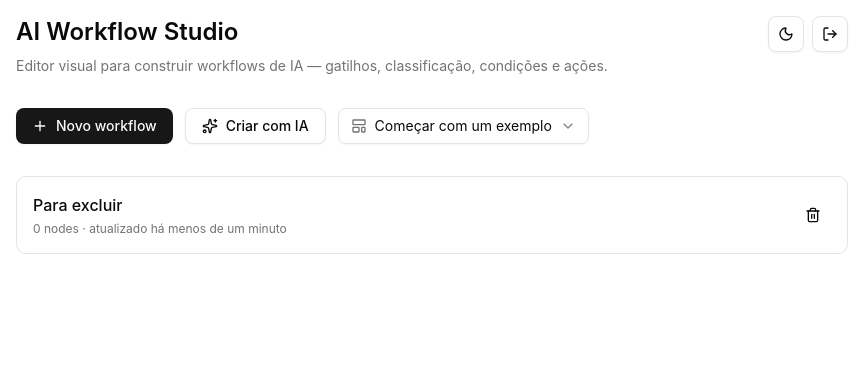
Test case: WorkflowListPage › remove um workflow após confirmação
expect the text "Para excluir" is shown: met, box left=33, top=195, right=122, bottom=215
What coordinates should you click on to do the following:
click the button named "excluir workflow \"para excluir\""
I would click on:
 (813, 215)
Its box is left=795, top=197, right=831, bottom=233.
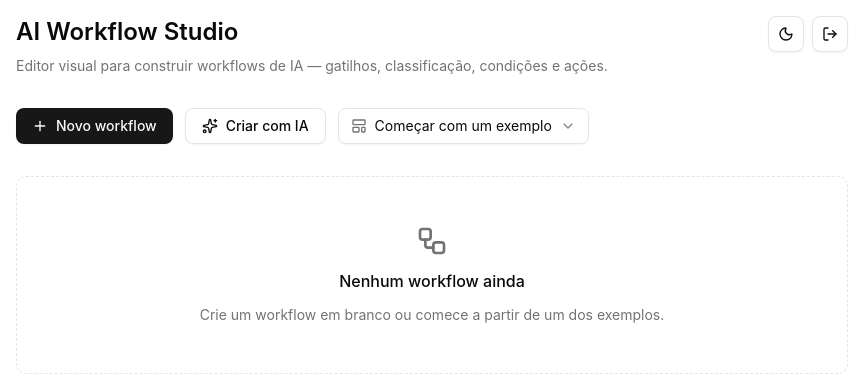
expect the button "Para excluir" is gone: met
